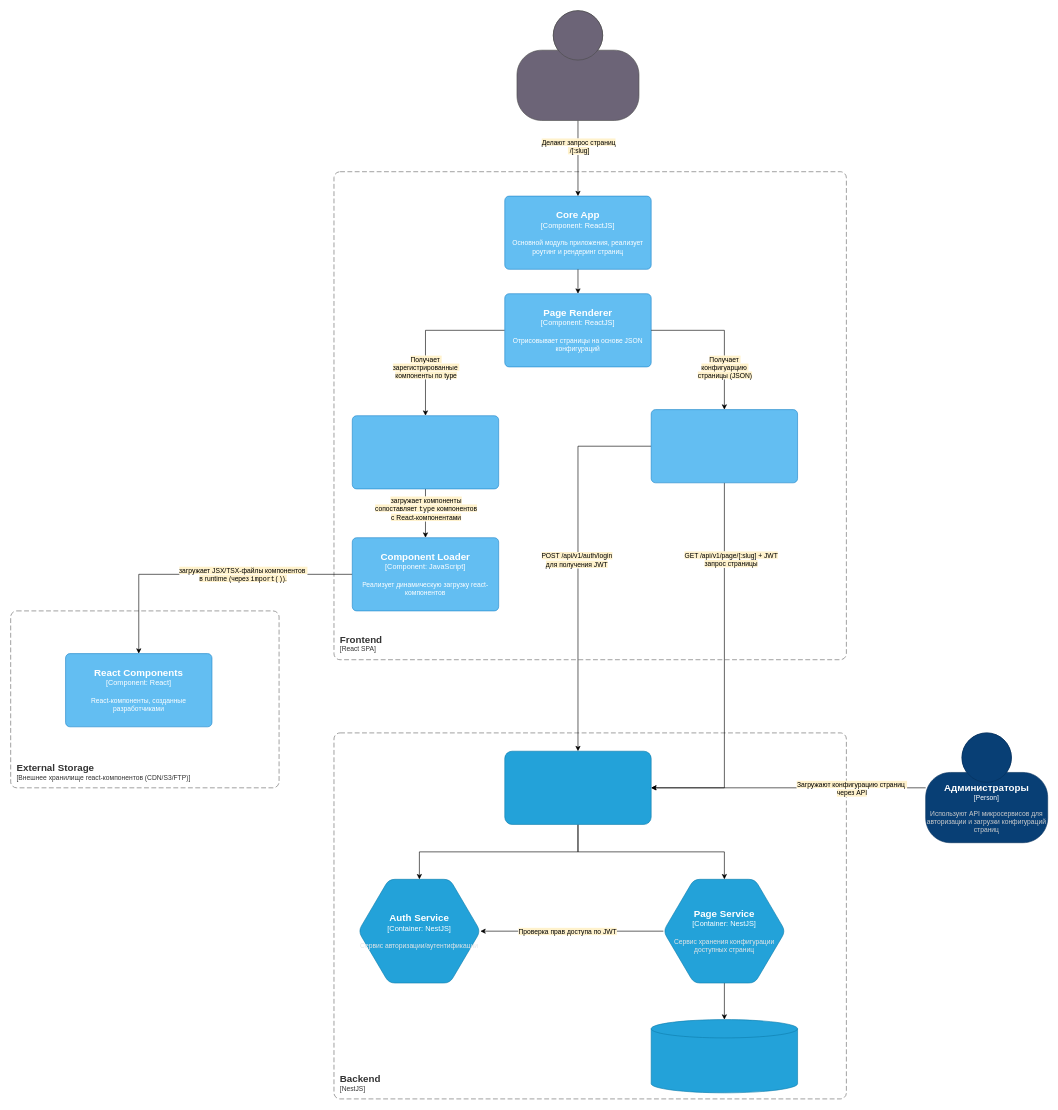
The diagram is 1058 pixels wide and 1110 high, and some of its shapes have lost their labels. Here are the shapes that lost their labels. From the top down, the centre of each, then its label:
[577,65]: Гости [Person] Пользователи запрашивают страницы из браузера
[425,452]: Component Registry [Component: ReactJS] реестр доступных UI-компонентов
[724,446]: API-клиент [Component: JavaScript] формирует и обрабатывает запросы на клиенте
[577,787]: API Gateway [Container: NestJS] Реализует API-шлюз на базе NestJS
[724,1056]: Page Config Store [Container: PostgreSQL] Хранит конфигурации страниц
